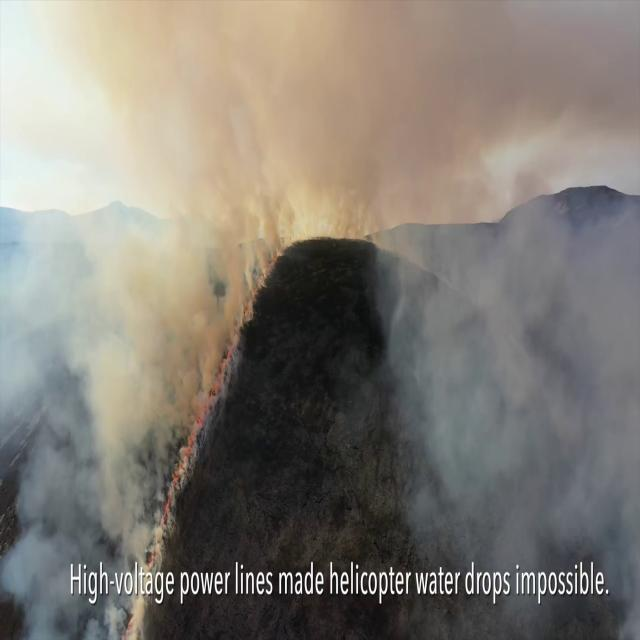Smoke: (356, 233, 640, 640), (63, 220, 236, 446)
